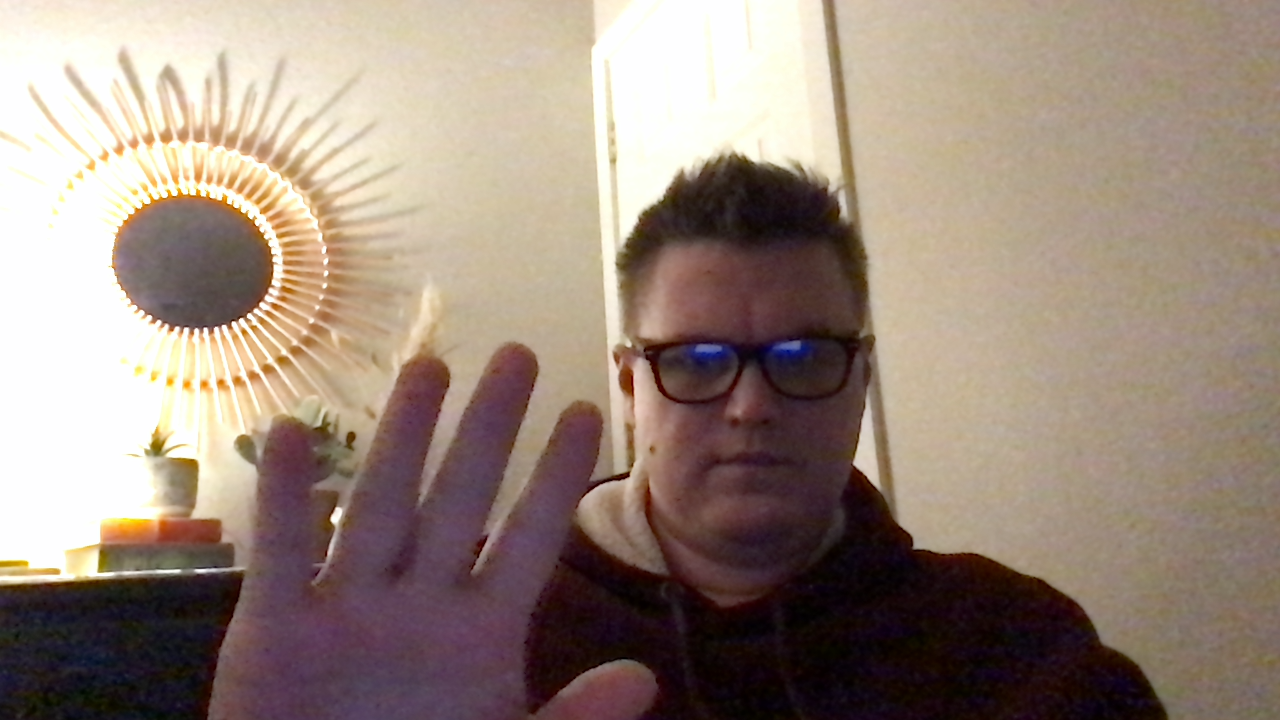hello: (195, 338, 674, 720)
